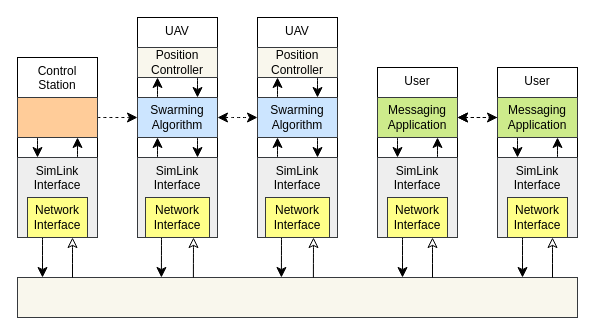
Some shapes in this 595 by 335 pixel diagram are drawn without their labels. The shapes that lost their labels are listed below. From the top down, each one's centre as x and y in pixels, then its label:
the point at 57,117: Control Application
the point at 297,297: Wireless Ad-hoc Network
